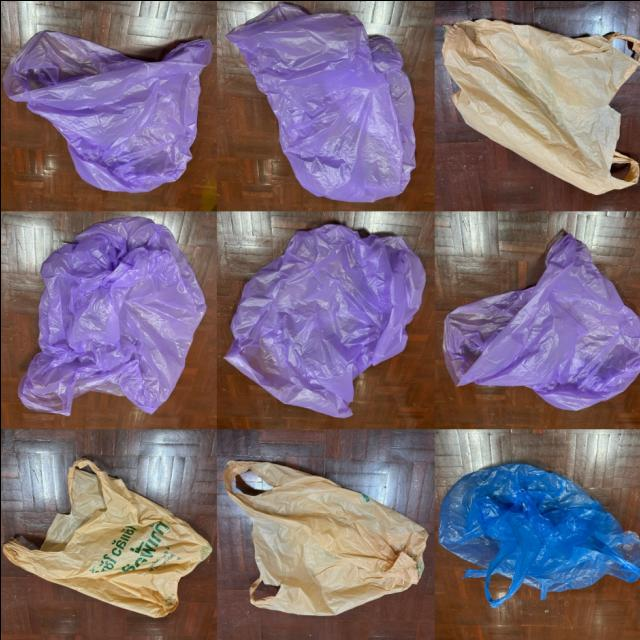plastik: (224, 224, 424, 416), (17, 216, 205, 414), (226, 3, 414, 201), (442, 233, 640, 410), (442, 19, 640, 193), (3, 31, 210, 192), (2, 458, 211, 617), (223, 460, 427, 614), (438, 464, 640, 607)
